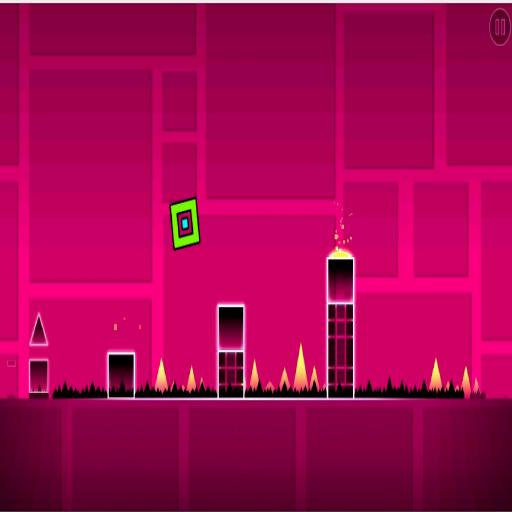block: (328, 260, 355, 394), (218, 304, 244, 398), (106, 354, 136, 400), (28, 356, 50, 396), (6, 357, 17, 369)
player: (170, 197, 199, 249)
spike: (293, 344, 307, 390), (30, 313, 48, 345), (155, 358, 168, 391), (429, 358, 442, 390), (249, 358, 259, 390), (461, 367, 470, 397), (279, 368, 290, 390), (187, 366, 196, 392), (310, 366, 319, 390), (265, 381, 274, 390), (473, 379, 478, 392)
